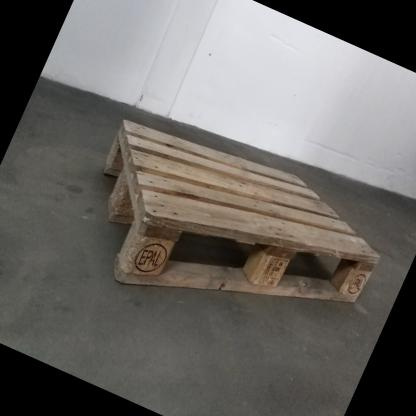BoxFace: (97, 113, 386, 309)
